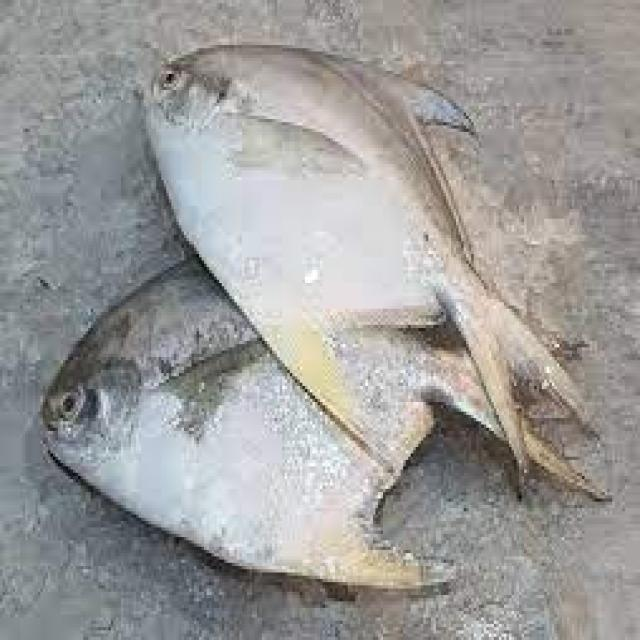pomfred: (137, 44, 601, 492)
